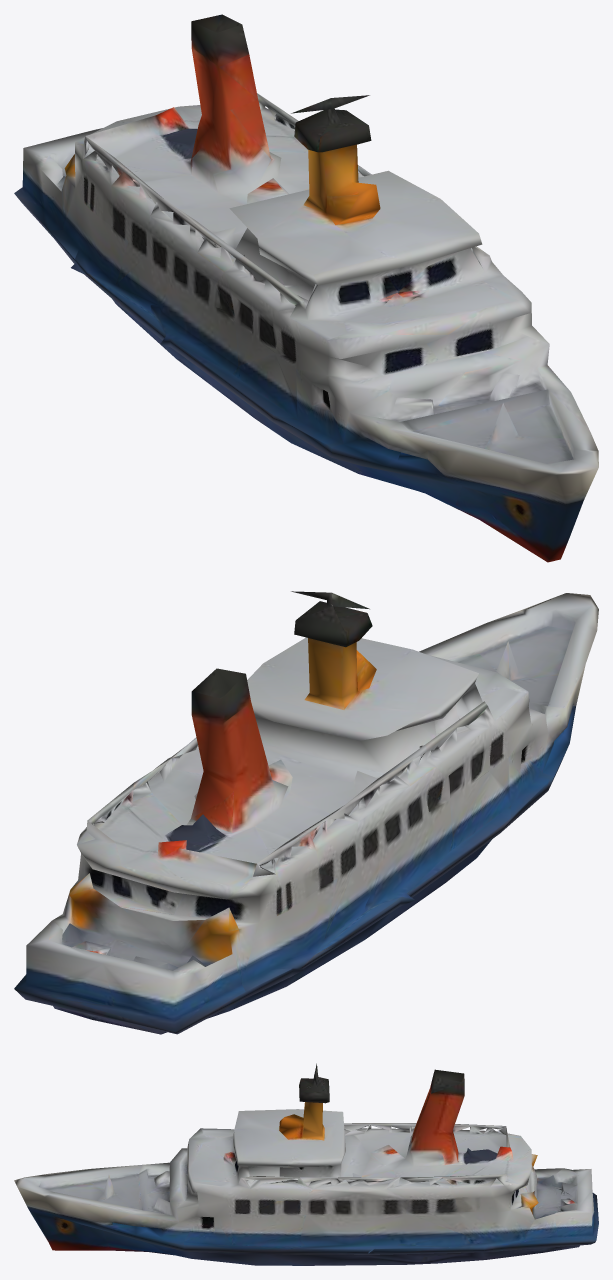
File: ferry.glb
3 renders of one model, top to bottom at view 1: azimuth 30°, elevation 25°; view 2: azimuth 150°, elevation 25°; view 3: azimuth 270°, elevation 25°, orthographic. The views are drawn at different scales.
Visible parts, largest first — view 1: tripo_node_3cf4fe82-554b-4a49-9368-193bac361627; view 2: tripo_node_3cf4fe82-554b-4a49-9368-193bac361627; view 3: tripo_node_3cf4fe82-554b-4a49-9368-193bac361627.
Part boxes in pixels (box(x1,y1,x2,y2)): tripo_node_3cf4fe82-554b-4a49-9368-193bac361627: box(14, 14, 598, 562); tripo_node_3cf4fe82-554b-4a49-9368-193bac361627: box(14, 591, 598, 1034); tripo_node_3cf4fe82-554b-4a49-9368-193bac361627: box(14, 1063, 598, 1265).
Bounding box in the file's own units: 0.2981 × 0.3366 × 1.
Materials: 1 (1 with a texture image).
